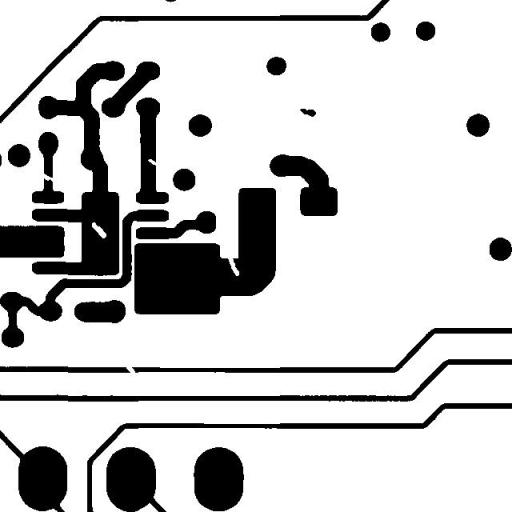copper: (292, 101, 323, 124)
mousebite: (220, 247, 246, 283), (140, 151, 164, 173)
open: (33, 165, 62, 189), (118, 357, 142, 382)
pin-hole: (84, 214, 114, 246)
